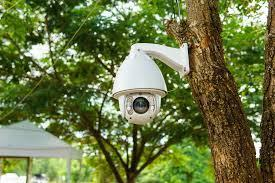maru: (110, 42, 174, 130)
